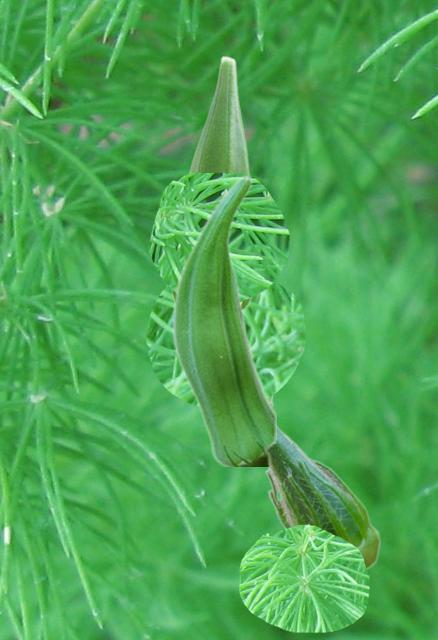okra: (171, 174, 275, 465), (169, 55, 252, 309), (263, 422, 380, 570)
